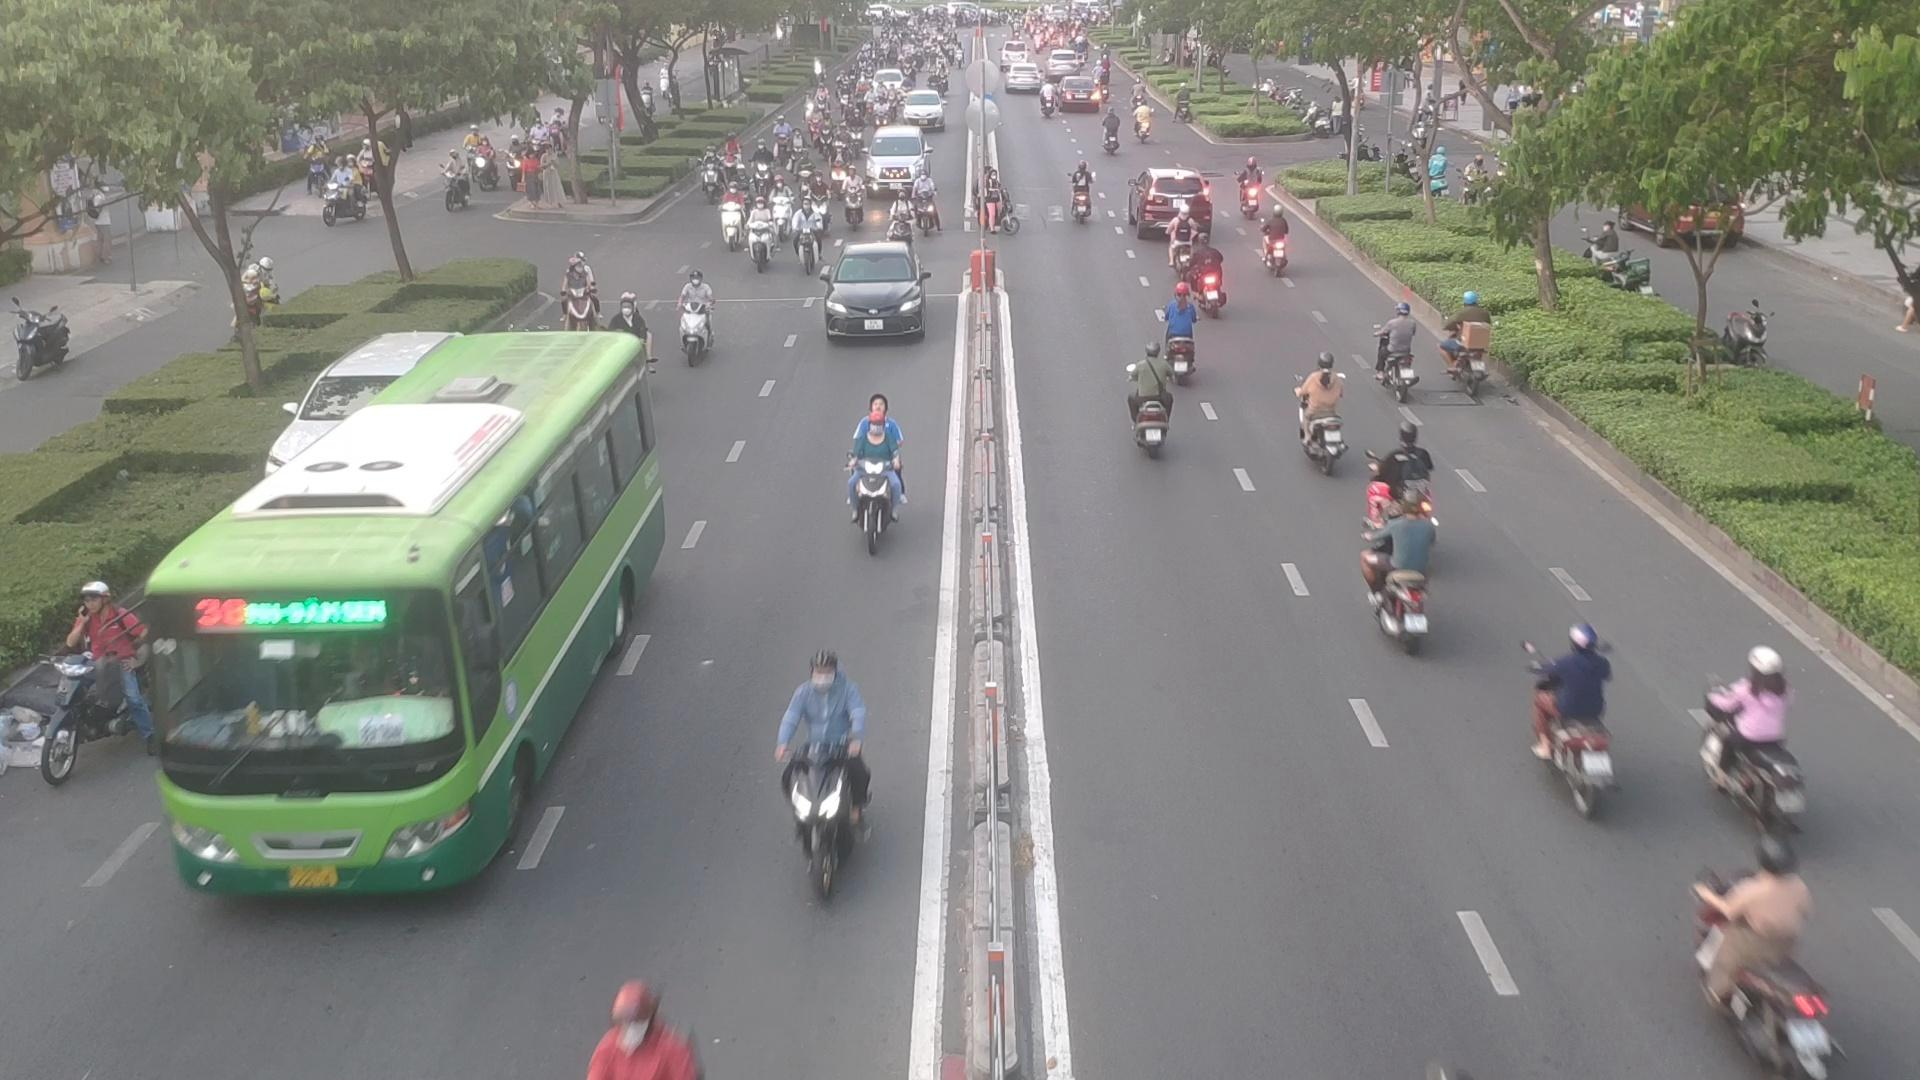bus: (156, 334, 651, 905)
car: (814, 245, 930, 343), (1127, 173, 1209, 244)
motorbike: (1679, 847, 1851, 1077), (773, 659, 876, 894), (46, 566, 152, 781), (1516, 629, 1623, 806), (1695, 680, 1811, 832), (566, 990, 720, 1080), (1364, 489, 1445, 645), (837, 411, 909, 553), (1287, 353, 1349, 467), (1370, 436, 1451, 522), (1125, 349, 1182, 456), (1449, 289, 1499, 404), (1370, 306, 1425, 400), (673, 272, 725, 364), (1171, 243, 1229, 322), (1160, 284, 1200, 381), (1259, 208, 1300, 277), (1062, 165, 1104, 228), (716, 189, 754, 251), (744, 208, 779, 273), (910, 179, 944, 237), (833, 175, 868, 232)
